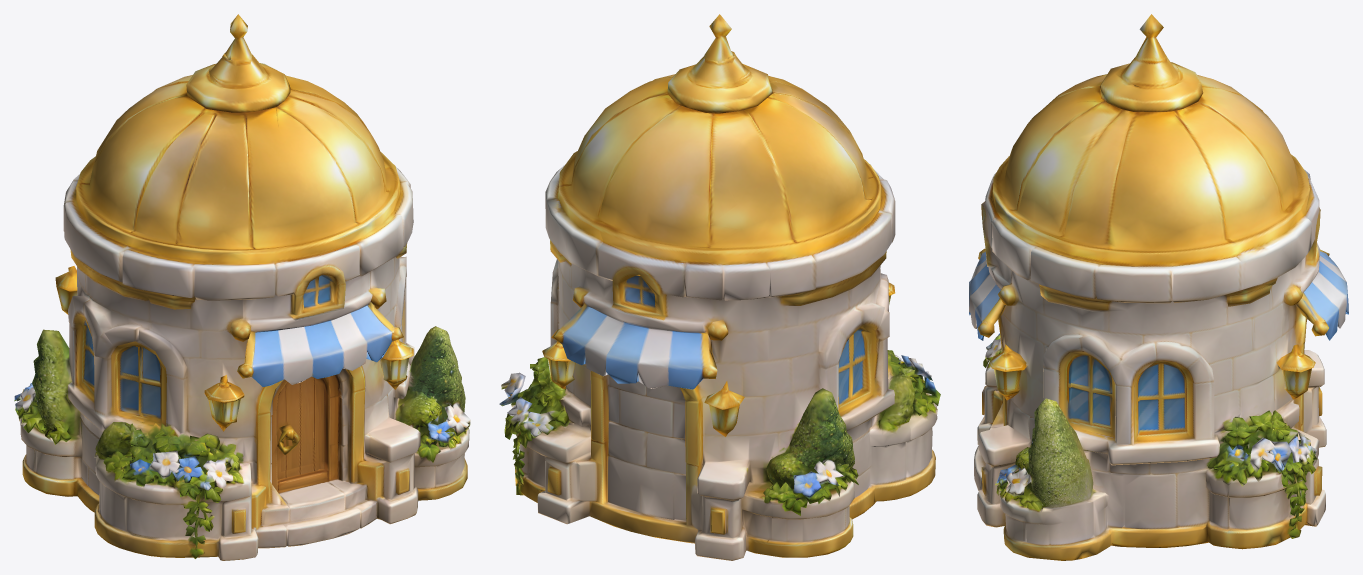
Rendered from Halo_DomeHouseA_HD_plain.glb.
3 renders of one model, left to right at view 1: azimuth 30°, elevation 25°; view 2: azimuth 150°, elevation 25°; view 3: azimuth 270°, elevation 25°, orthographic.
Visible parts, largest first — view 1: tripo_node_67c0ed53-9f43-47c6-89b3-05be986aa0d3; view 2: tripo_node_67c0ed53-9f43-47c6-89b3-05be986aa0d3; view 3: tripo_node_67c0ed53-9f43-47c6-89b3-05be986aa0d3.
Boxes of the visible parts, x1,y1,x2,y2 form: tripo_node_67c0ed53-9f43-47c6-89b3-05be986aa0d3: [14, 14, 470, 560]; tripo_node_67c0ed53-9f43-47c6-89b3-05be986aa0d3: [499, 14, 940, 560]; tripo_node_67c0ed53-9f43-47c6-89b3-05be986aa0d3: [969, 14, 1348, 560].
Bounding box in the file's own units: 0.7803 × 0.9813 × 0.7254.
Materials: 1 (1 with a texture image).
